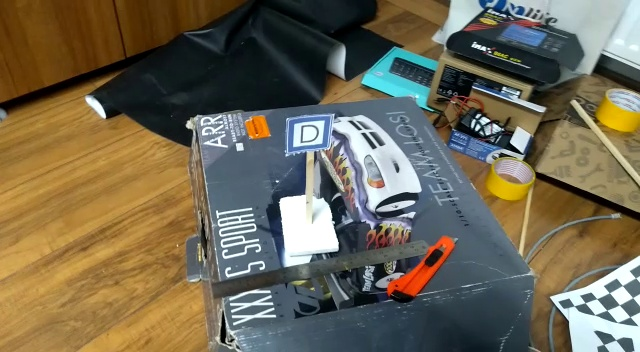durak: (288, 117, 331, 150)
